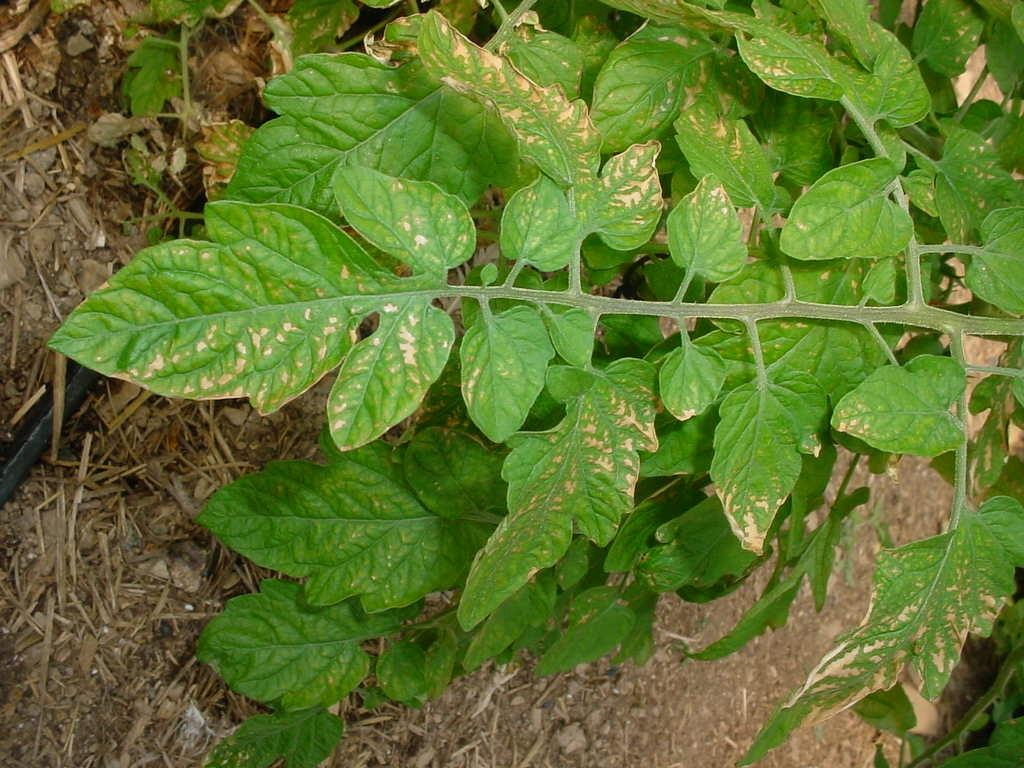Tomato leaf late blight: (44, 187, 408, 438), (412, 15, 691, 278), (455, 318, 658, 634), (680, 362, 856, 584), (798, 313, 980, 492), (316, 288, 468, 469), (768, 122, 903, 277), (442, 296, 555, 444), (332, 169, 479, 278), (664, 176, 756, 309), (652, 330, 735, 429)
